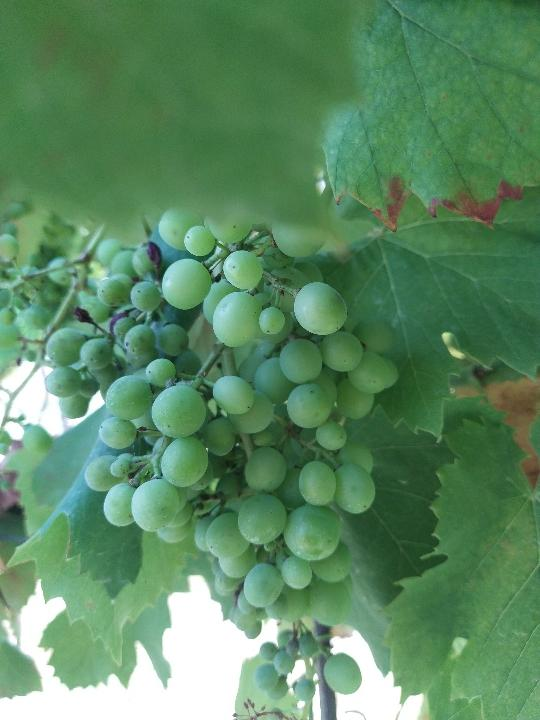grape: (41, 207, 400, 639)
